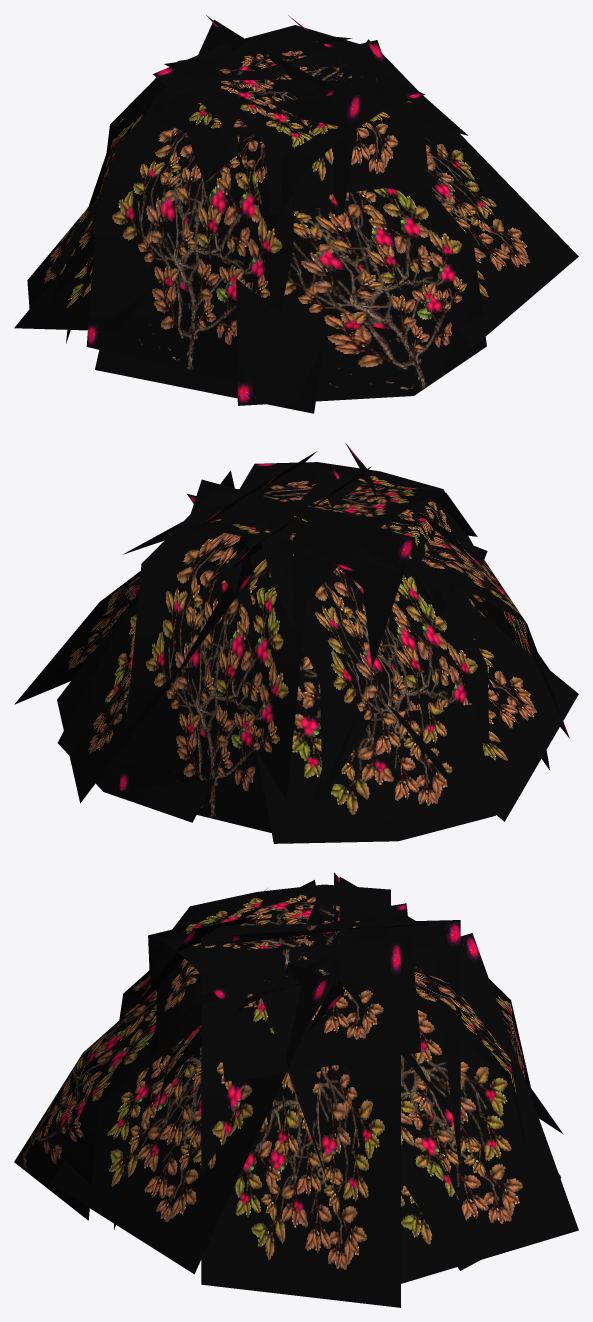
The model's file is berry_bush_03.dae.
3 renders of one model, top to bottom at view 1: azimuth 30°, elevation 25°; view 2: azimuth 150°, elevation 25°; view 3: azimuth 270°, elevation 25°, orthographic. The views are drawn at different scales.
Parts seen in each view (by area): view 1: wrld_foragebush_a01; view 2: wrld_foragebush_a01; view 3: wrld_foragebush_a01.
Part boxes in pixels (x1,y1,x2,y2): wrld_foragebush_a01: (14,15,578,413); wrld_foragebush_a01: (14,443,578,843); wrld_foragebush_a01: (14,872,578,1307).
Size of the model in its own units: 5.8 by 5.53 by 2.98.
1 material, 1 textured.
